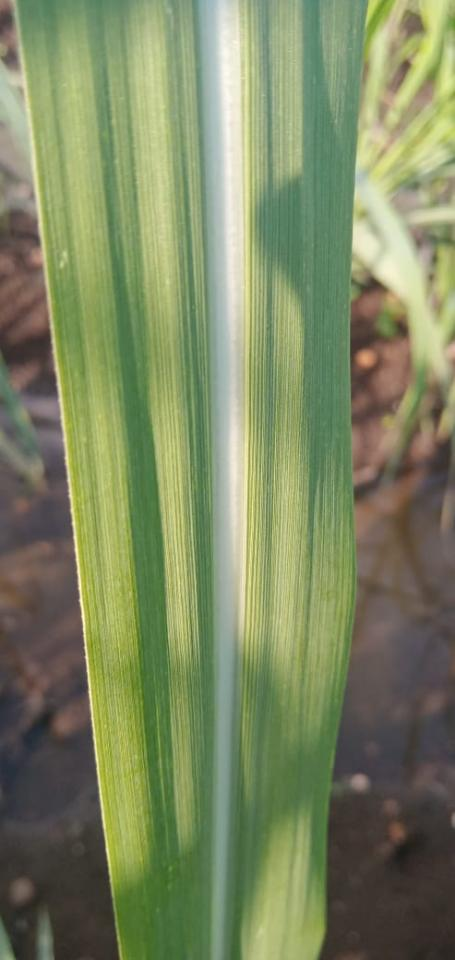Healthy: (18, 0, 211, 959), (226, 0, 370, 959)
